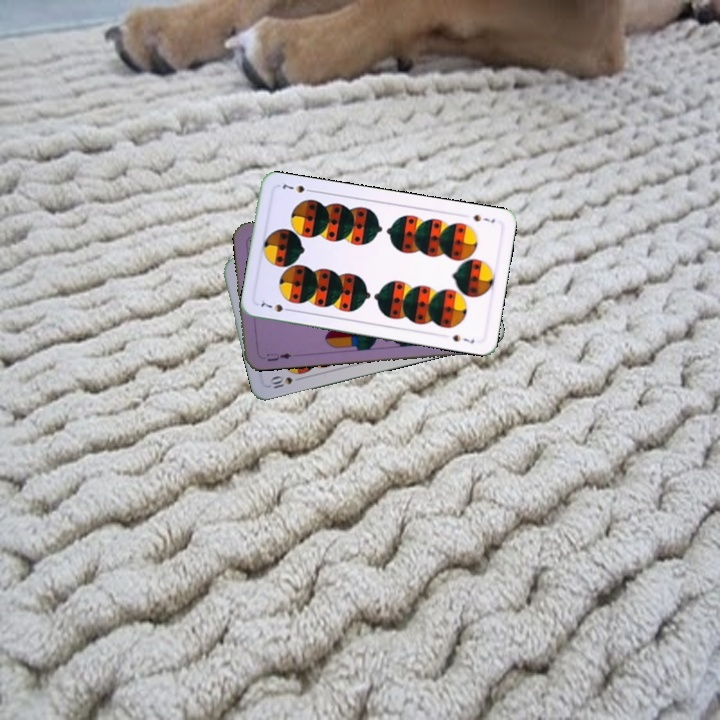EU: (262, 349, 294, 364)
S10: (265, 373, 305, 391)
S7: (257, 296, 295, 315), (469, 211, 497, 226)
